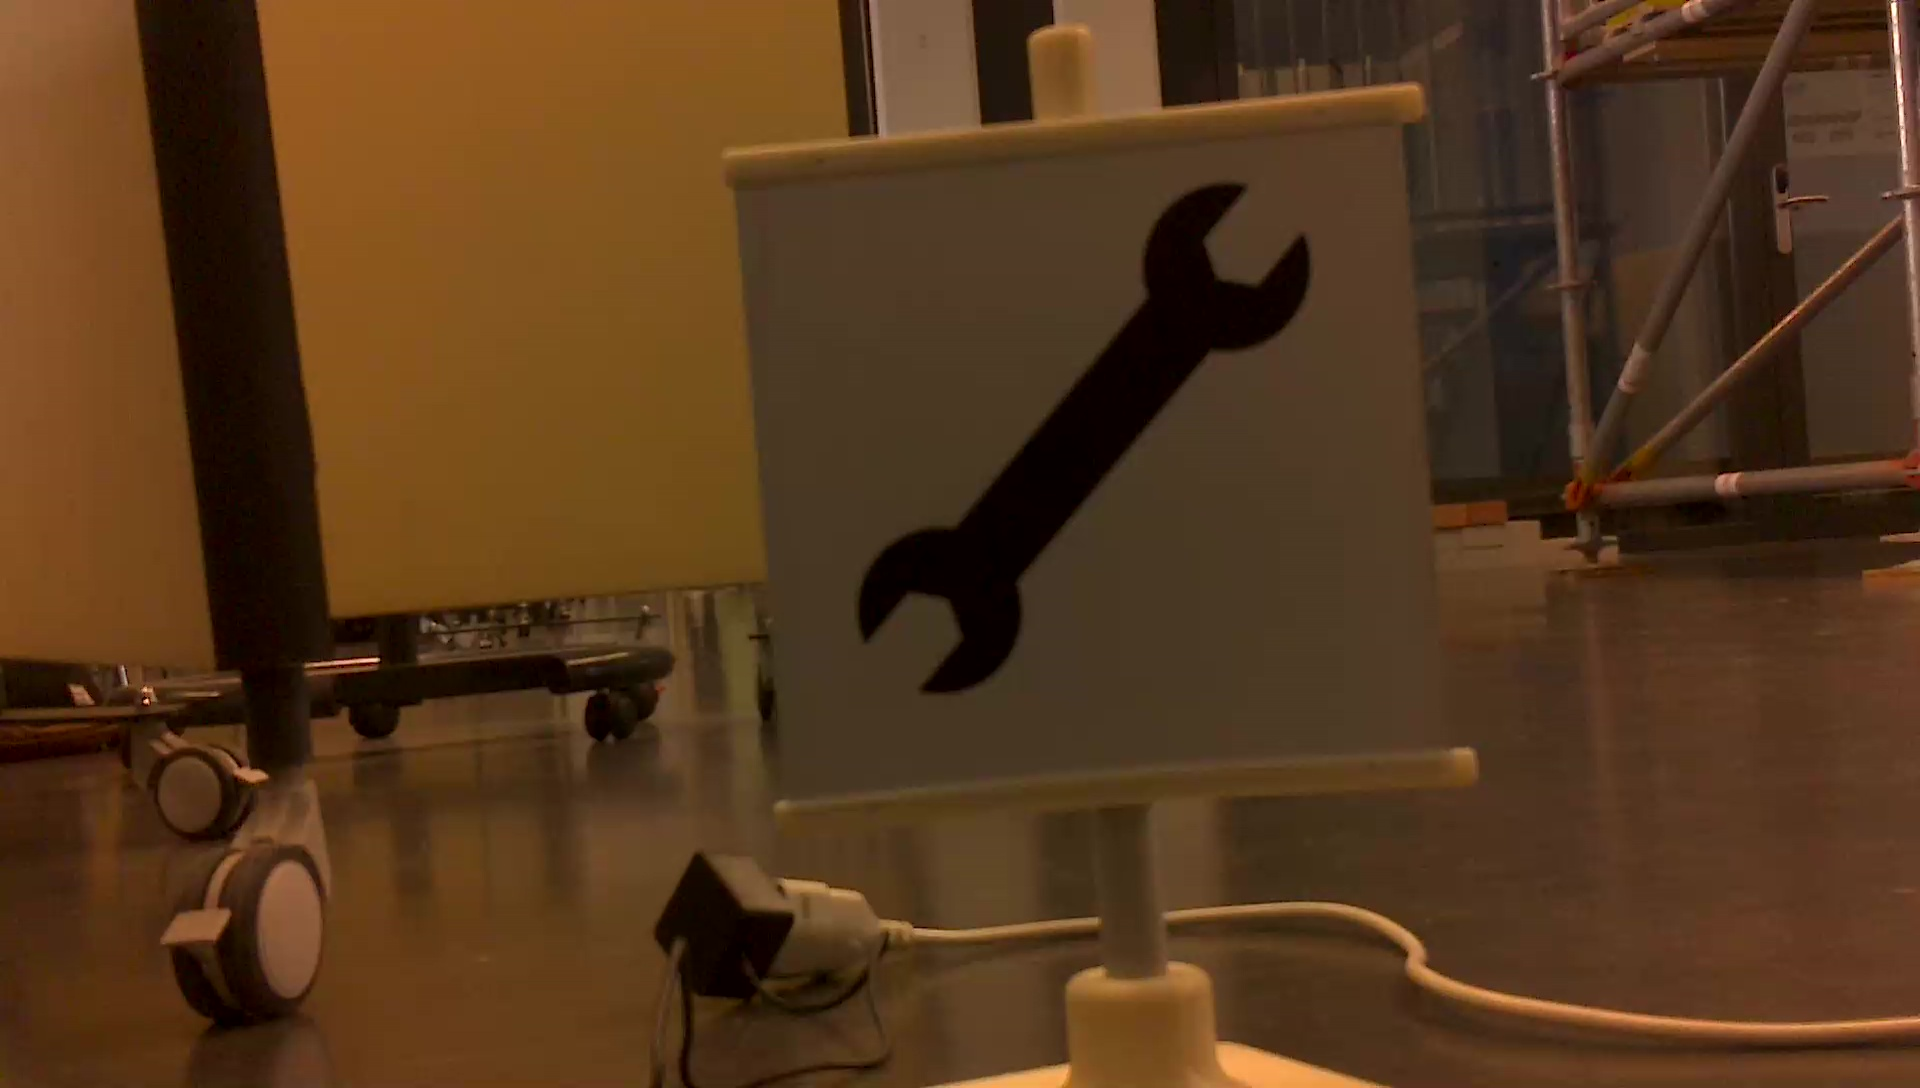wrench: (840, 167, 1335, 721)
